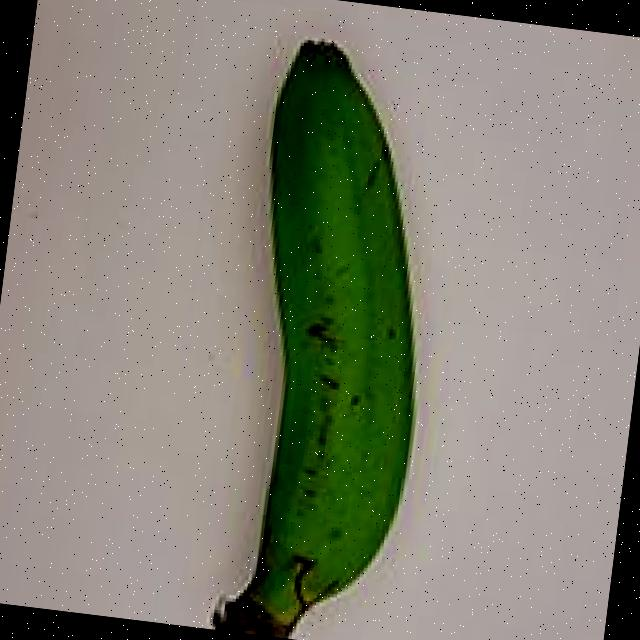Raw: (135, 10, 481, 640)
